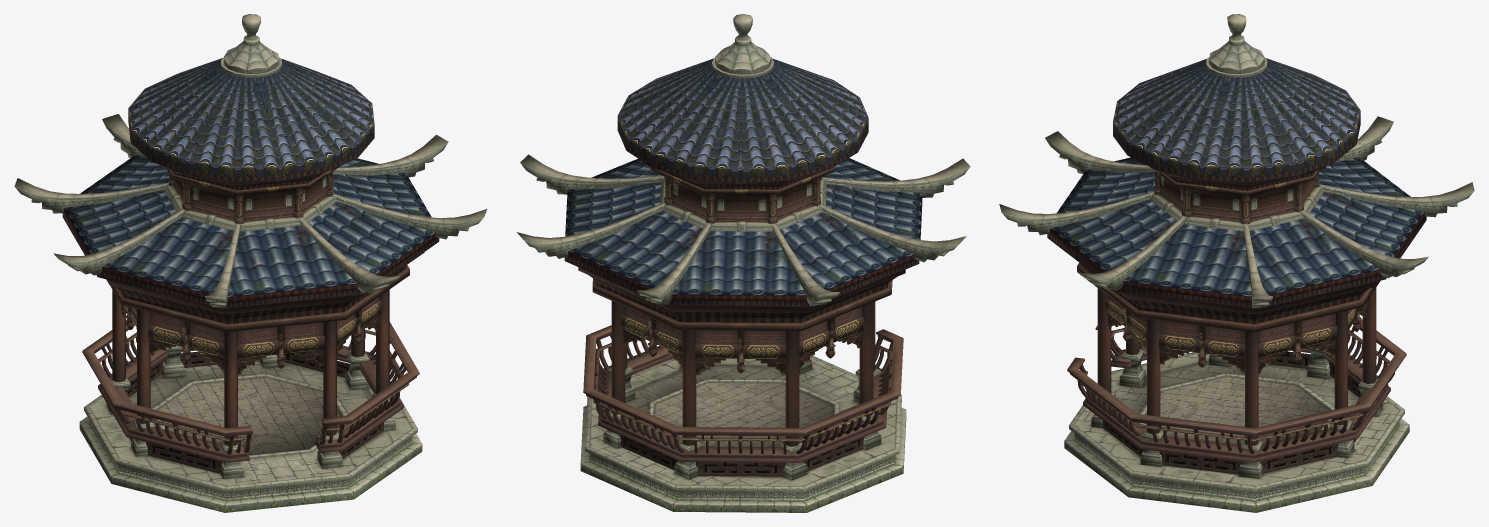
Rendered from S2_Build_XSC021a.FBX.
The picture shows the model from 3 angles, left to right: view 1: azimuth 30°, elevation 25°; view 2: azimuth 150°, elevation 25°; view 3: azimuth 270°, elevation 25°; orthographic projection.
Parts seen in each view (by area): view 1: S2_Build_XSC021; view 2: S2_Build_XSC021; view 3: S2_Build_XSC021.
Part boxes in pixels (x1,y1,x2,y2): S2_Build_XSC021: (14,14,487,512); S2_Build_XSC021: (517,14,970,512); S2_Build_XSC021: (999,14,1474,512).
Size of the model in its own units: 307 by 304 by 308.
